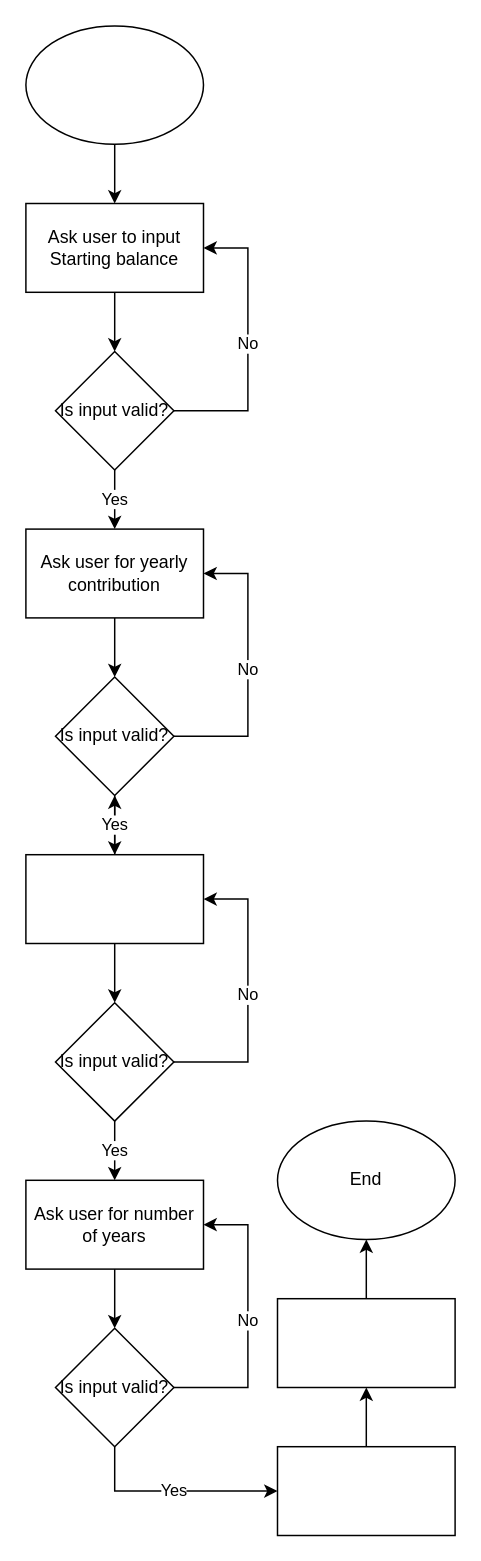
The diagram is 481 pixels wide and 1561 high, and some of its shapes have lost their labels. The shapes that lost their labels are listed below. From the top down, each one's centre as x and y in pixels, then its label:
At (114,84): "Start".
At (114,898): "Ask user average return on investment as %".
At (365,1342): "Display Balance at the end of each year".
At (365,1490): "Calculate balance at the end of each year".
